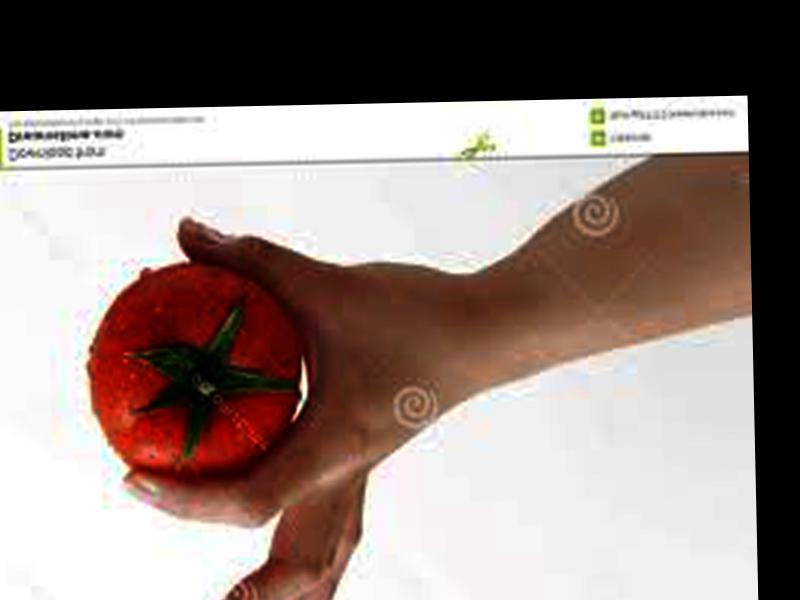Tomato: (85, 260, 304, 484)
